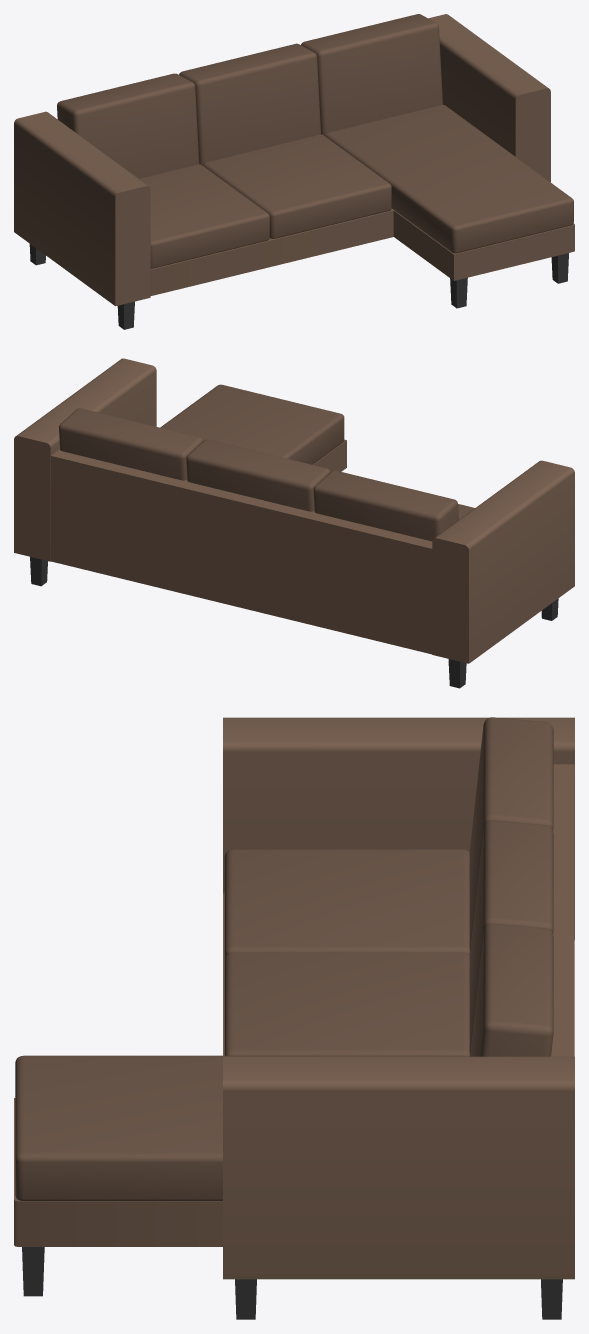
The model's file is Sofa7_C3.fbx.
The picture shows the model from 3 angles, top to bottom: view 1: azimuth 30°, elevation 25°; view 2: azimuth 150°, elevation 25°; view 3: azimuth 270°, elevation 25°; orthographic projection. The views are drawn at different scales.
Parts seen in each view (by area): view 1: Sofa7_C3; view 2: Sofa7_C3; view 3: Sofa7_C3.
Part boxes in pixels (x1,y1,x2,y2): Sofa7_C3: [14, 14, 574, 329]; Sofa7_C3: [14, 358, 574, 688]; Sofa7_C3: [14, 717, 574, 1319].
Size of the model in its own units: 248 by 86.76 by 159.
